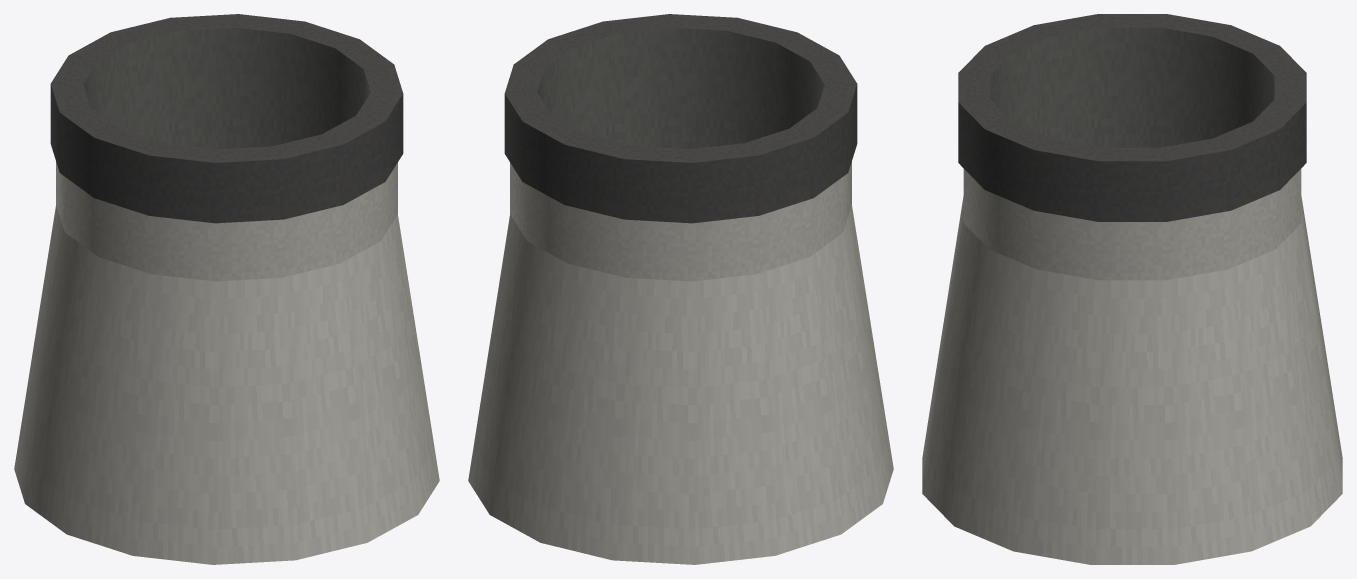
3 views of the same model, side by side, from view 1: azimuth 30°, elevation 25°; view 2: azimuth 150°, elevation 25°; view 3: azimuth 270°, elevation 25° (orthographic).
Parts seen in each view (by area): view 1: mh_cone; view 2: mh_cone; view 3: mh_cone.
Part boxes in pixels (x1,y1,x2,y2): mh_cone: (14,14,439,564); mh_cone: (468,14,893,564); mh_cone: (922,14,1342,564).
Bounding box in the file's own units: 0.9808 × 1 × 0.9808.
